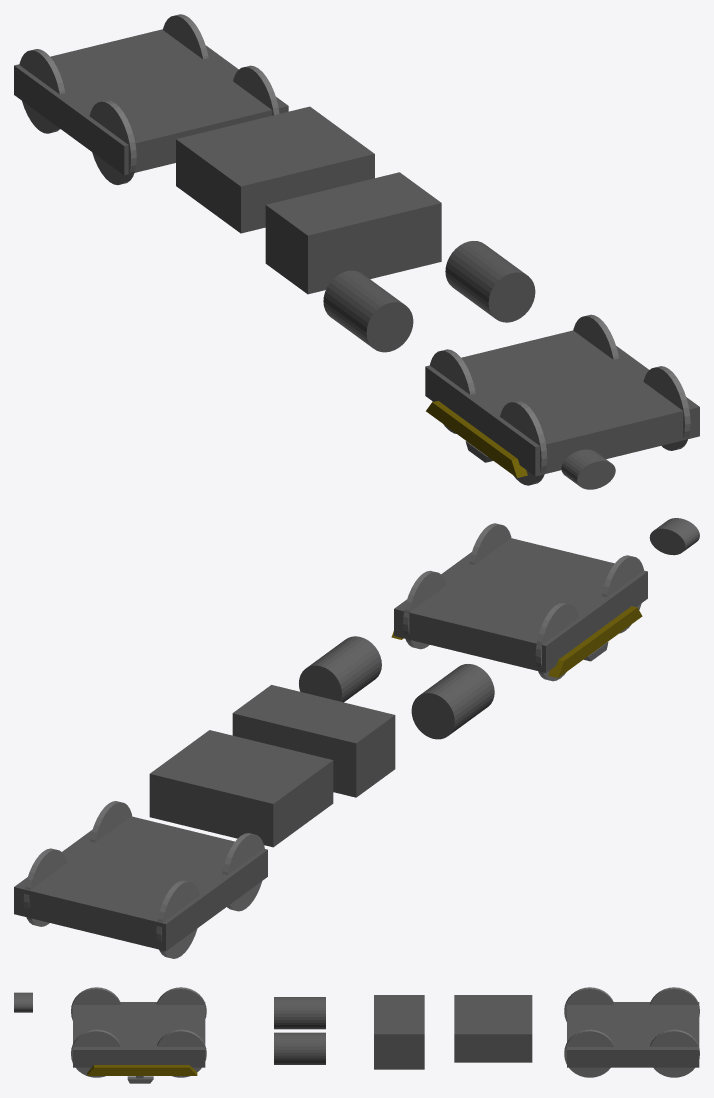
Rendered from br-410-underframe.dae.
3 renders of one model, top to bottom at view 1: azimuth 30°, elevation 25°; view 2: azimuth 150°, elevation 25°; view 3: azimuth 270°, elevation 25°, orthographic. The views are drawn at different scales.
Parts seen in each view (by area): view 1: Cube_042, Cube_043, Cube_002, Cube, Cylinder_017, Cylinder_016, Cube_046, Cylinder_009, Cylinder_013, Cylinder_008, Cylinder_002, Cylinder_001 (+4 smaller); view 2: Cube_043, Cube_042, Cube, Cube_002, Cylinder_017, Cylinder_016, Cube_046, Cylinder_008, Cylinder_013, Cylinder_009, Cylinder, Cylinder_003 (+4 smaller); view 3: Cube_043, Cube_042, Cube, Cube_002, Cylinder_016, Cylinder_017, Cube_049, Cylinder_010, Cylinder_011, Cylinder_001, Cylinder, Cylinder_009 (+5 smaller).
Boxes of the visible parts, left/top/right/bottom form: Cube_042: left=425, top=330, right=699, bottom=476; Cube_043: left=14, top=29, right=288, bottom=175; Cube_002: left=265, top=172, right=441, bottom=294; Cube: left=176, top=106, right=374, bottom=233; Cylinder_017: left=323, top=270, right=413, bottom=352; Cylinder_016: left=445, top=241, right=535, bottom=322; Cube_046: left=426, top=401, right=527, bottom=477; Cylinder_009: left=89, top=100, right=136, bottom=184; Cylinder_013: left=561, top=449, right=615, bottom=489; Cylinder_008: left=19, top=49, right=65, bottom=133; Cylinder_002: left=500, top=400, right=547, bottom=485; Cylinder_001: left=643, top=366, right=690, bottom=450; Cube_043: left=14, top=816, right=267, bottom=950; Cube_042: left=394, top=538, right=647, bottom=672; Cube: left=149, top=730, right=333, bottom=847; Cube_002: left=232, top=685, right=395, bottom=797; Cylinder_017: left=411, top=664, right=494, bottom=739; Cylinder_016: left=299, top=636, right=381, bottom=702; Cube_046: left=548, top=606, right=642, bottom=677; Cylinder_008: left=156, top=880, right=199, bottom=958; Cylinder_013: left=649, top=518, right=699, bottom=555; Cylinder_009: left=222, top=833, right=264, bottom=911; Cylinder: left=403, top=570, right=446, bottom=649; Cylinder_003: left=535, top=603, right=578, bottom=681; Cube_043: left=567, top=1002, right=699, bottom=1067; Cube_042: left=73, top=1002, right=205, bottom=1067; Cube: left=454, top=995, right=532, bottom=1062; Cube_002: left=374, top=995, right=424, bottom=1069; Cylinder_016: left=274, top=1032, right=325, bottom=1064; Cylinder_017: left=274, top=997, right=325, bottom=1029; Cube_049: left=87, top=1065, right=197, bottom=1075; Cylinder_010: left=564, top=1029, right=613, bottom=1077; Cylinder_011: left=650, top=1029, right=699, bottom=1077; Cylinder_001: left=71, top=1029, right=120, bottom=1077; Cylinder: left=157, top=1029, right=206, bottom=1077; Cylinder_009: left=564, top=987, right=614, bottom=1021.
Size of the model in its own units: 1.97 by 10.57 by 0.7955.
